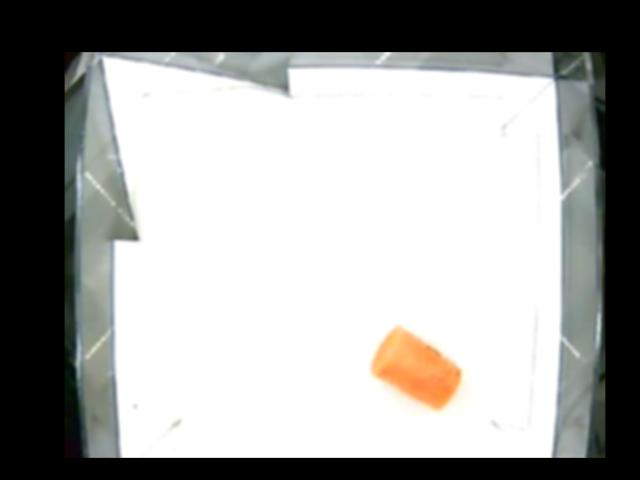Carrot: (369, 325, 464, 410)
